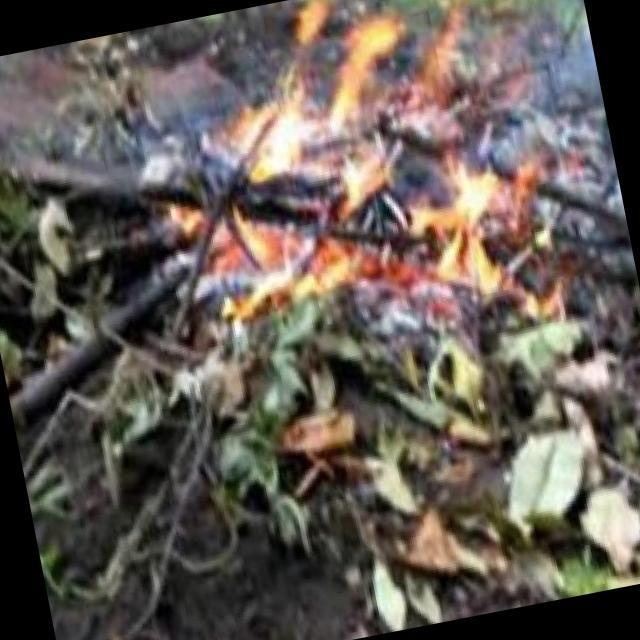Fire: (142, 1, 587, 348)
